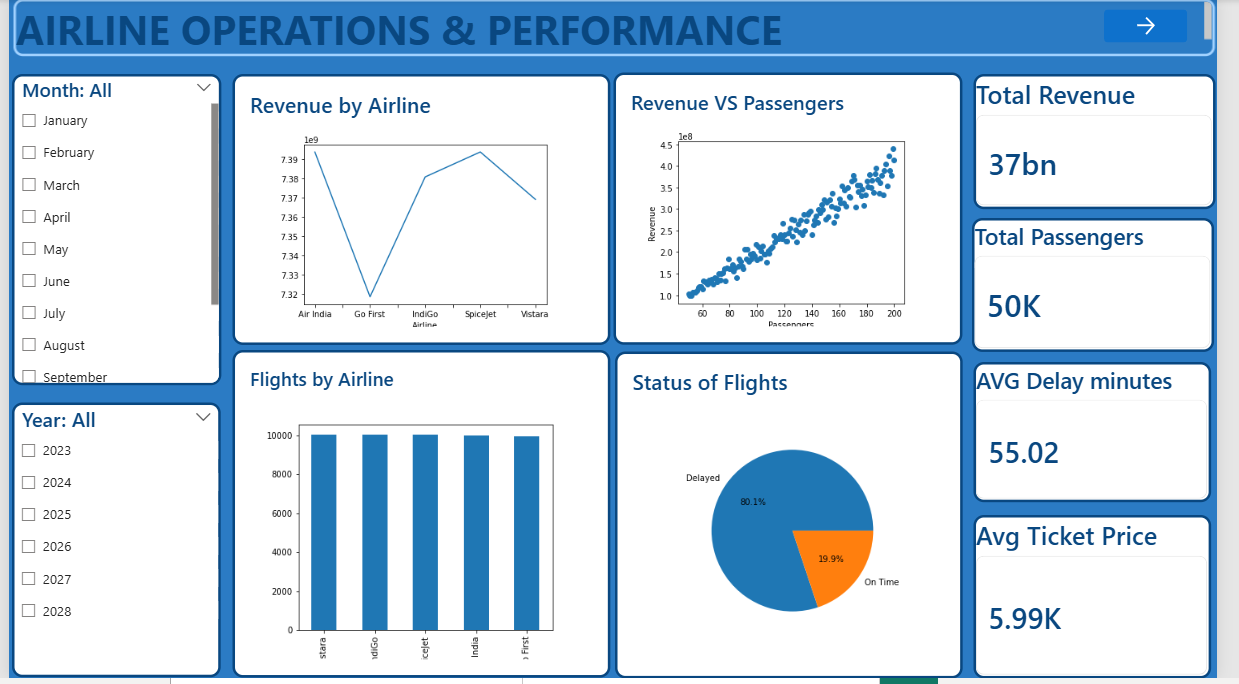

The page's visual inventory and layout, read from the dashboard file:
{"tool":"powerbi","page":{"name":"Airline operations and performance","canvas":[1280,720],"ordinal":0},"visuals":[{"type":"cardVisual","title":"Total Revenue","fields":{"Data":["Sum(Airline.Revenue)"]},"box":[1023.3,80,256.7,143.3],"z":0},{"type":"slicer","fields":{"Values":["Airline.Date.Variation.Date Hierarchy.Month"]},"box":[3.3,80,221.7,330],"z":1000},{"type":"cardVisual","title":"Total Passengers","fields":{"Data":["CountNonNull(Airline.Passengers)"]},"box":[1021.7,231.7,256.7,141.7],"z":2000},{"type":"pythonVisual","title":"Flights by Airline","fields":{"Values":["dataset.Airline","dataset.Flight_ID"]},"box":[237.3,371.5,400.7,347.4],"z":3000},{"type":"pythonVisual","title":"Revenue by Airline","fields":{"Values":["dataset.Revenue","dataset.Airline"]},"box":[237.3,79.1,400.7,287.2],"z":4000},{"type":"slicer","fields":{"Values":["dataset.Date.Variation.Date Hierarchy.Year"]},"box":[3.6,428.6,221.4,291.1],"z":5000},{"type":"pythonVisual","title":"Revenue VS Passengers","fields":{"Values":["dataset.Revenue","dataset.Passengers"]},"box":[641.7,78.3,370,288.3],"z":6000},{"type":"cardVisual","title":"AVG Delay minutes","fields":{"Data":["dataset.Avg Delay"]},"box":[1023.3,385,251.7,148.3],"z":7000},{"type":"cardVisual","title":"Avg Ticket Price","fields":{"Data":["dataset.Avg Ticket Price"]},"box":[1023.2,546.4,251.8,173.2],"z":8000},{"type":"pythonVisual","title":" Status of Flights","fields":{"Values":["Airline.Flight_ID","Airline.Status"]},"box":[643.3,373.3,368.3,346.7],"z":9000},{"type":"textbox","box":[4.8,0,1274.1,60.4],"z":10000},{"type":"actionButton","box":[1161.7,11.7,88.3,35],"z":11000}]}

Visuals, with their boxes in screenshot pixels (x1, y1, x2, y2), scaled from the page's 1280x720 canvas onto the 1239x684 screenshot:
"Total Revenue" cardVisual: [x1=991, y1=76, x2=1238, y2=212]
slicer - Airline.Date.Variation.Date Hierarchy.Month: [x1=3, y1=76, x2=218, y2=390]
"Total Passengers" cardVisual: [x1=989, y1=220, x2=1237, y2=355]
"Flights by Airline" pythonVisual: [x1=230, y1=353, x2=618, y2=683]
"Revenue by Airline" pythonVisual: [x1=230, y1=75, x2=618, y2=348]
slicer - dataset.Date.Variation.Date Hierarchy.Year: [x1=3, y1=407, x2=218, y2=683]
"Revenue VS Passengers" pythonVisual: [x1=621, y1=74, x2=979, y2=348]
"AVG Delay minutes" cardVisual: [x1=991, y1=366, x2=1234, y2=507]
"Avg Ticket Price" cardVisual: [x1=990, y1=519, x2=1234, y2=683]
" Status of Flights" pythonVisual: [x1=623, y1=355, x2=979, y2=683]
textbox: [x1=5, y1=0, x2=1238, y2=57]
actionButton: [x1=1124, y1=11, x2=1210, y2=44]
